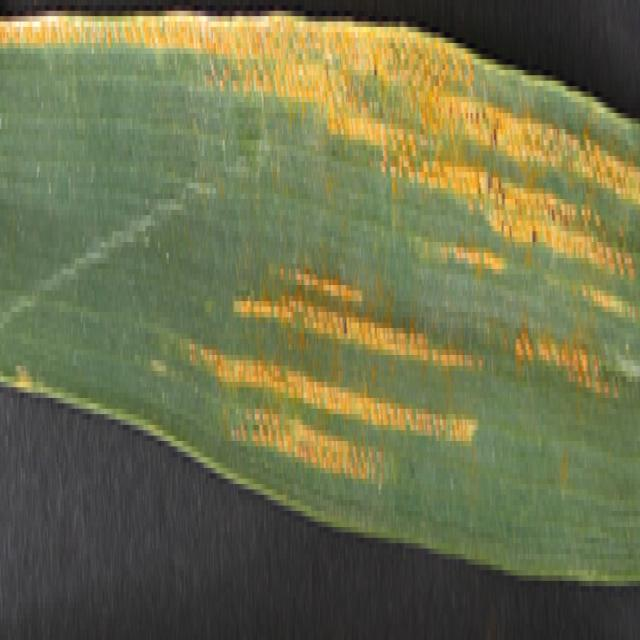leaf rust: (1, 5, 640, 479)
